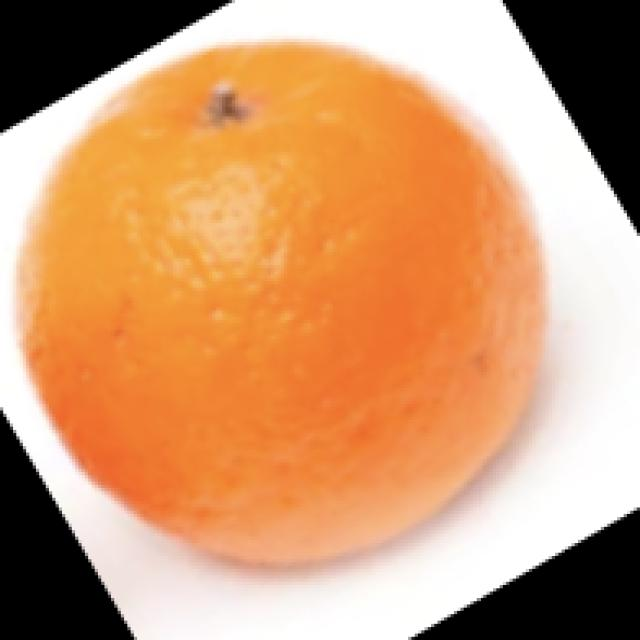matang: (20, 46, 556, 562)
